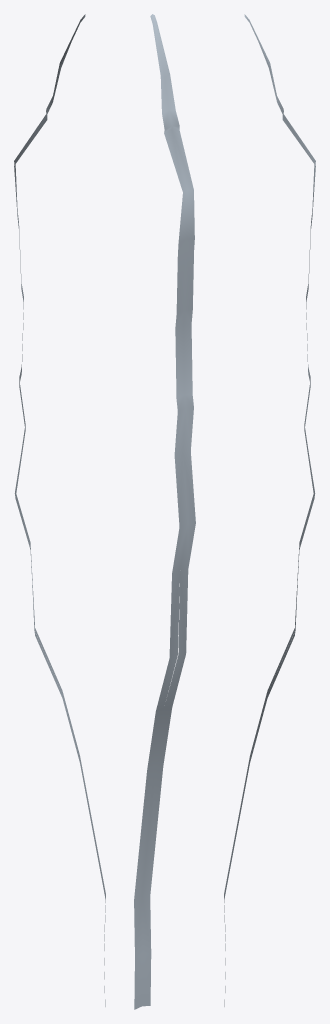
File: supraspinous-ligament.glb
3 renders of one model, left to right at view 1: azimuth 90°, elevation 25°; view 2: azimuth 210°, elevation 25°; view 3: azimuth 270°, elevation 25°, orthographic.
Visible parts, largest first — view 1: Supraspinous ligament; view 2: Supraspinous ligament; view 3: Supraspinous ligament.
Part boxes in pixels (x1=…): Supraspinous ligament: x1=14, y1=14, x2=105, y2=1006; Supraspinous ligament: x1=134, y1=14, x2=195, y2=1009; Supraspinous ligament: x1=224, y1=14, x2=315, y2=1006.
Bounding box in the file's own units: 0.00774 × 0.4462 × 0.0374.
